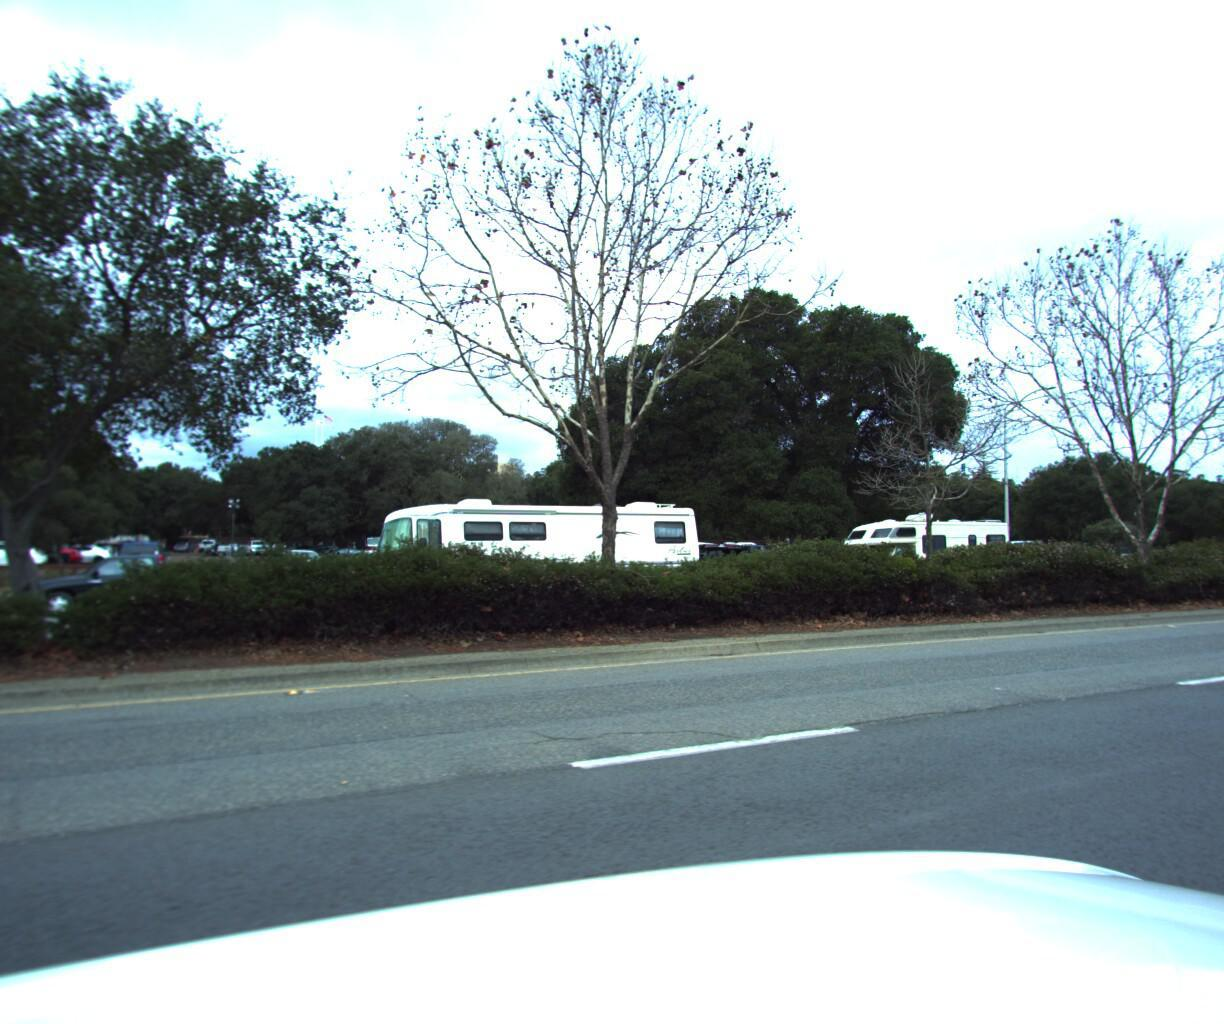car: (42, 551, 253, 620), (269, 547, 330, 588)
other_vehicle: (358, 487, 710, 613), (828, 502, 1013, 588)
